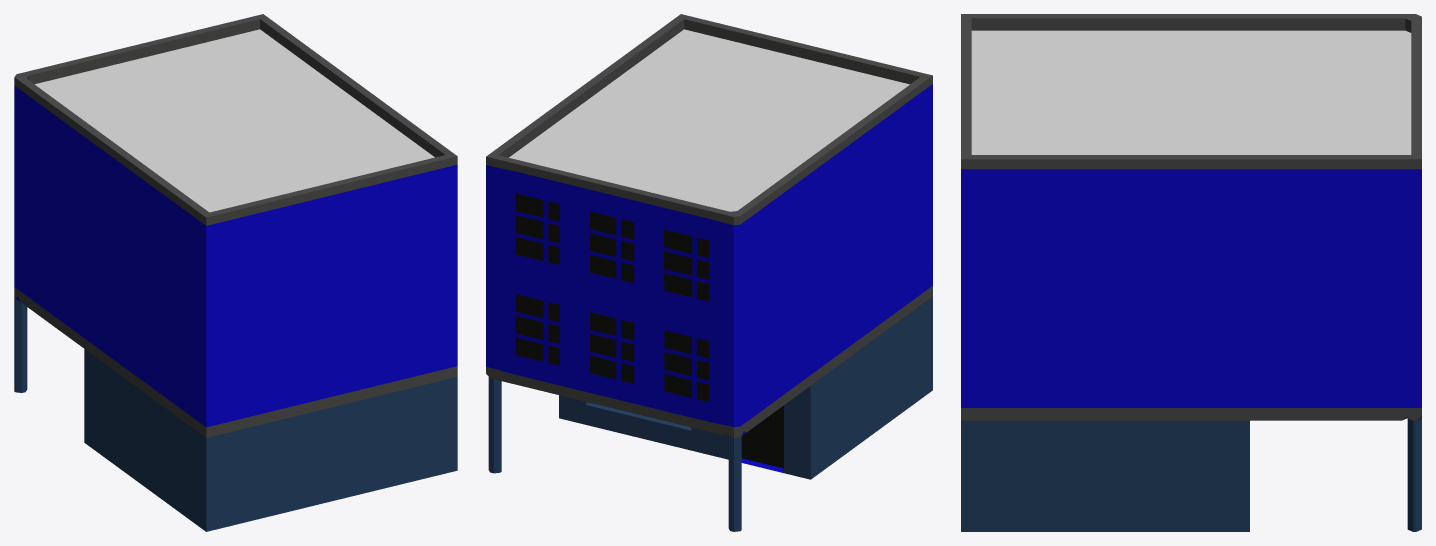
Rendered from house-9.glb.
The picture shows the model from 3 angles, left to right: view 1: azimuth 30°, elevation 25°; view 2: azimuth 150°, elevation 25°; view 3: azimuth 270°, elevation 25°; orthographic projection. The views are drawn at different scales.
Size of the model in its own units: 1.46 by 1.74 by 1.95.
